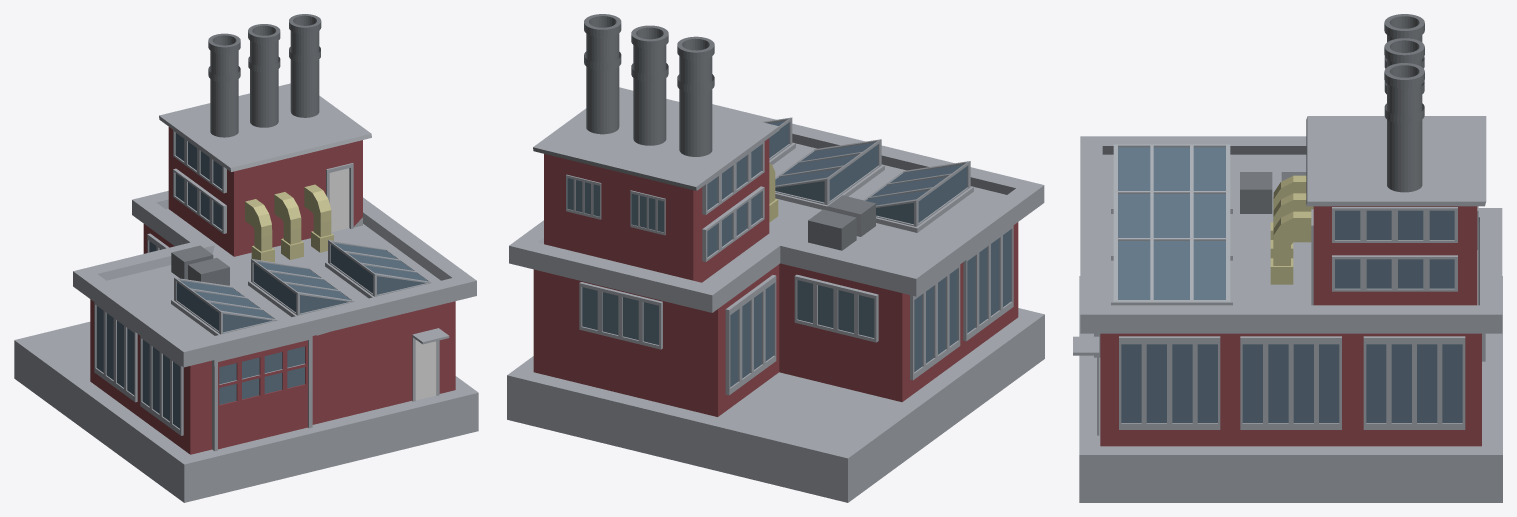
File: factory1.glb
3 views of the same model, side by side, from view 1: azimuth 30°, elevation 25°; view 2: azimuth 150°, elevation 25°; view 3: azimuth 270°, elevation 25° (orthographic). The views are drawn at different scales.
Parts seen in each view (by area): view 1: Factory; view 2: Factory; view 3: Factory.
Boxes of the visible parts, x1,y1,x2,y2 form: Factory: (14, 14, 478, 502); Factory: (507, 14, 1044, 502); Factory: (1073, 14, 1502, 502).
Size of the model in its own units: 0.9988 by 1.05 by 1.01.
